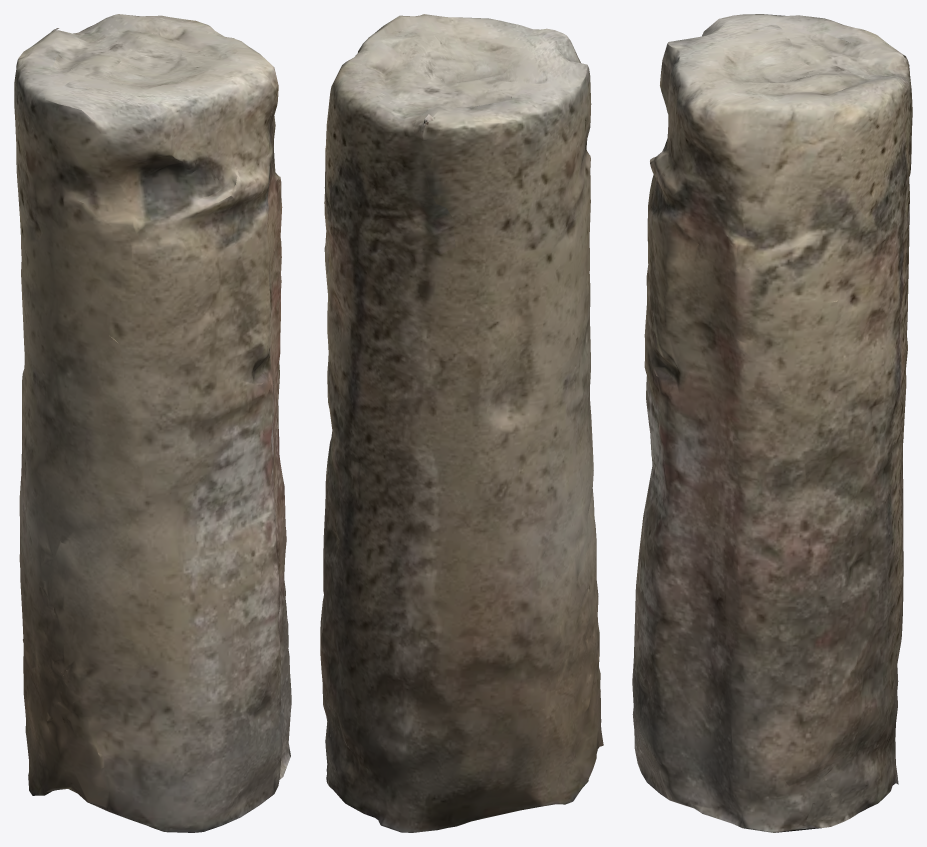
File: tower_model.glb
3 views of the same model, side by side, from view 1: azimuth 30°, elevation 25°; view 2: azimuth 150°, elevation 25°; view 3: azimuth 270°, elevation 25° (orthographic).
Parts seen in each view (by area): view 1: Model_material0_0; view 2: Model_material0_0; view 3: Model_material0_0.
Part boxes in pixels (x1=…): Model_material0_0: x1=14, y1=14, x2=291, y2=832; Model_material0_0: x1=320, y1=14, x2=603, y2=832; Model_material0_0: x1=632, y1=14, x2=912, y2=832.
Bounding box in the file's own units: 1.7 × 4.81 × 1.7.
1 material, 1 textured.
